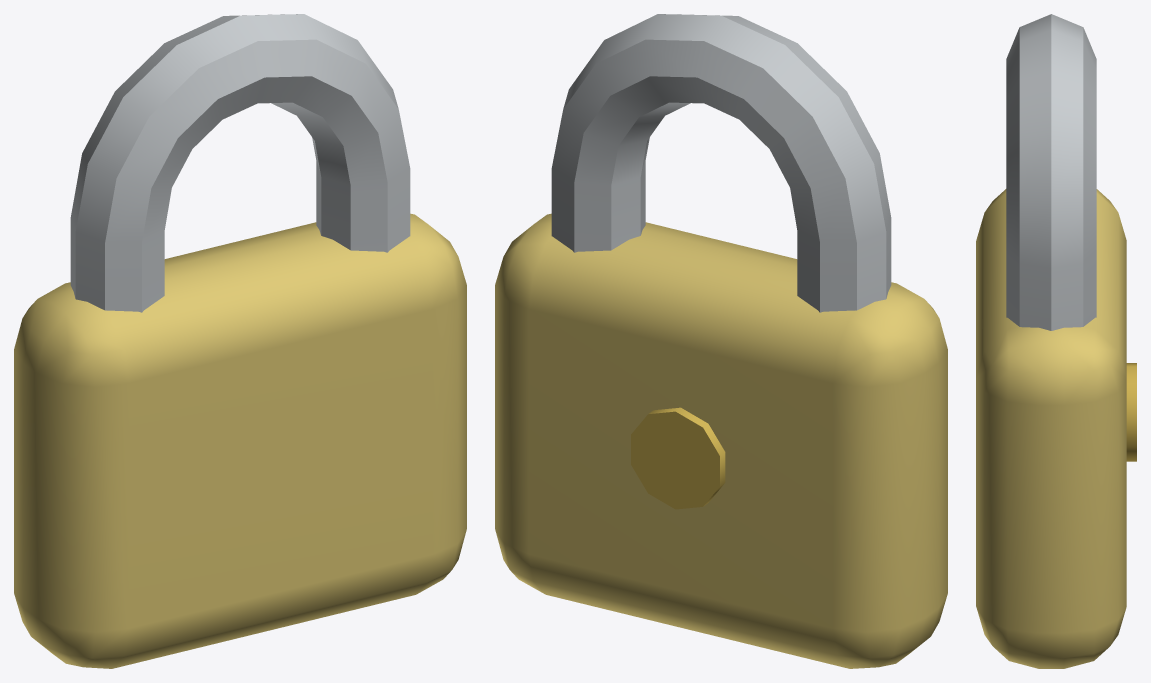
The model's file is padlock.glb.
3 views of the same model, side by side, from view 1: azimuth 30°, elevation 25°; view 2: azimuth 150°, elevation 25°; view 3: azimuth 270°, elevation 25° (orthographic). The views are drawn at different scales.
Visible parts, largest first — view 1: padlock; view 2: padlock; view 3: padlock.
Part boxes in pixels (x1,y1,x2,y2): padlock: [14, 14, 466, 668]; padlock: [495, 14, 947, 668]; padlock: [976, 14, 1136, 668].
Bounding box in the file's own units: 0.36 × 0.496 × 0.128.
